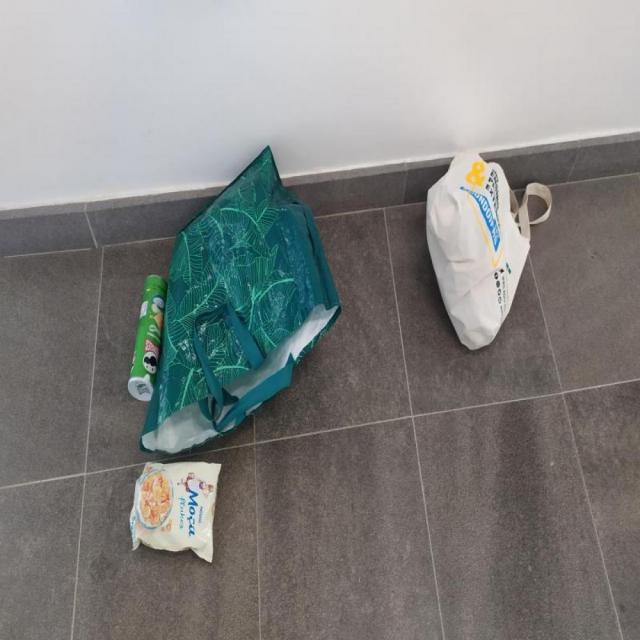Bag: (144, 146, 345, 462), (426, 147, 554, 350)
CornFlakes: (128, 461, 220, 564)
Pringles: (128, 274, 167, 408)
